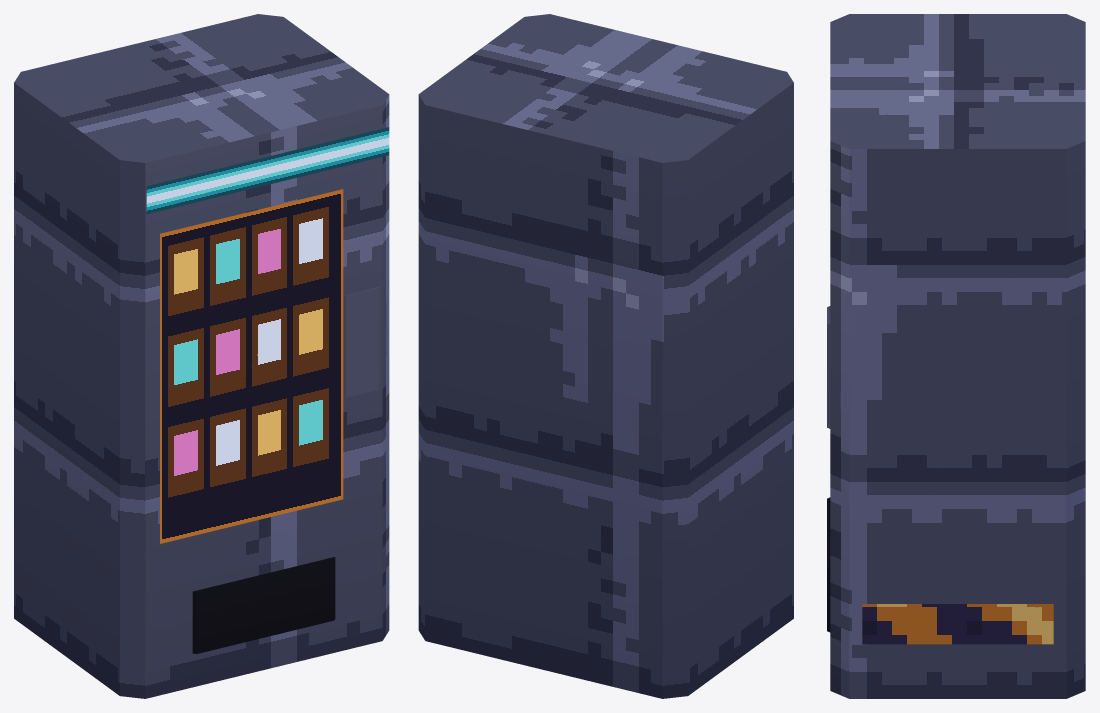
The model's file is cytech.vending.glb.
The picture shows the model from 3 angles, left to right: view 1: azimuth 30°, elevation 25°; view 2: azimuth 150°, elevation 25°; view 3: azimuth 270°, elevation 25°; orthographic projection. The views are drawn at different scales.
Visible parts, largest first — view 1: kit_body, kit_card_front; view 2: kit_body; view 3: kit_body, kit_card_front.
Boxes of the visible parts, x1,y1,x2,y2 form: kit_body: (14, 14, 389, 698); kit_card_front: (146, 127, 389, 543); kit_body: (418, 14, 793, 698); kit_body: (827, 14, 1085, 698); kit_card_front: (862, 604, 1053, 644).
Bounding box in the file's own units: 1.02 × 1.9 × 0.825.
Materials: 6 (6 with a texture image).
